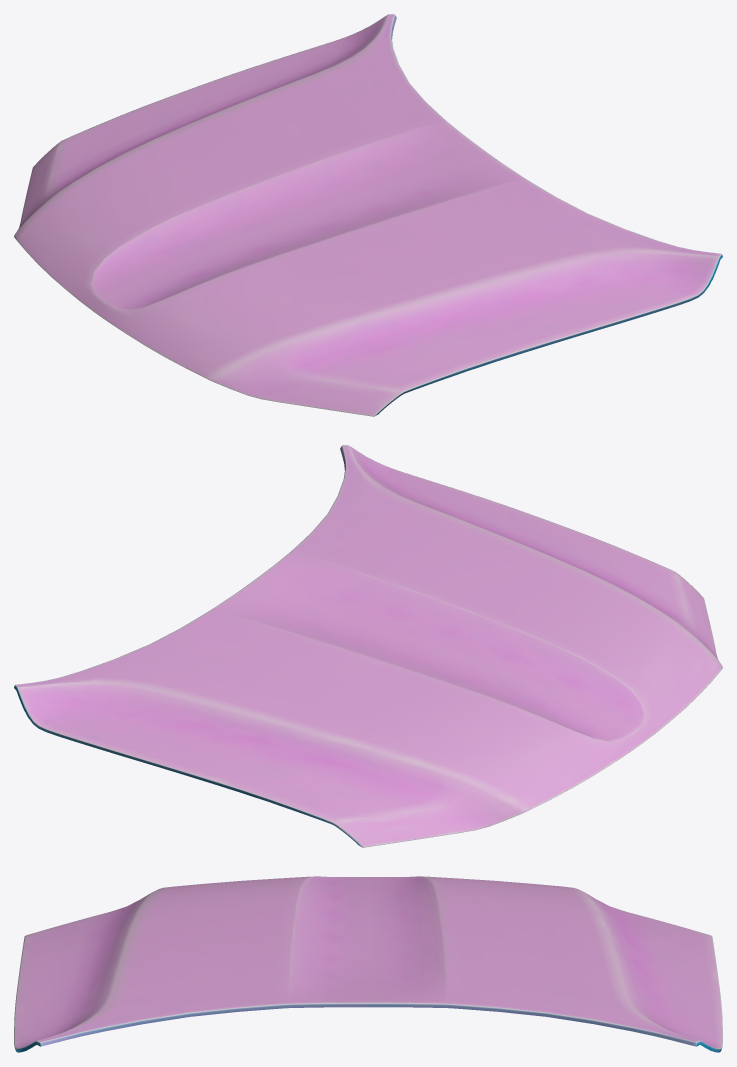
The model's file is bonnet.glb.
The picture shows the model from 3 angles, top to bottom: view 1: azimuth 30°, elevation 25°; view 2: azimuth 150°, elevation 25°; view 3: azimuth 270°, elevation 25°; orthographic projection.
Parts seen in each view (by area): view 1: carpaint_6; view 2: carpaint_6; view 3: carpaint_6.
Boxes of the visible parts, box(x1,y1,x2,y2) form: carpaint_6: box(14, 14, 722, 416); carpaint_6: box(14, 445, 722, 847); carpaint_6: box(14, 876, 722, 1052).
Size of the model in its own units: 1.27 by 0.2041 by 1.68.
